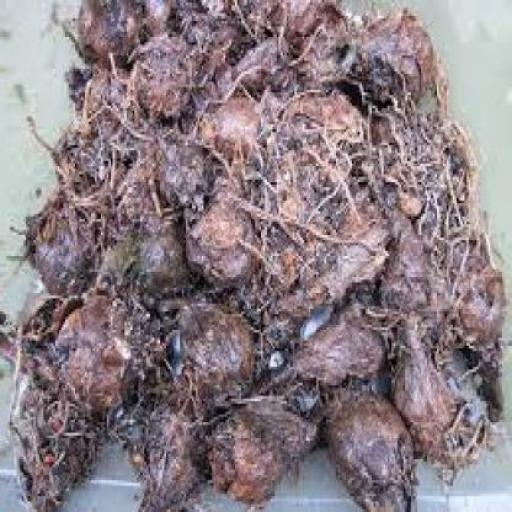biodegradable: (385, 132, 496, 306), (254, 198, 392, 336), (387, 311, 491, 483), (253, 74, 387, 203), (146, 285, 263, 412), (12, 346, 102, 509), (181, 0, 361, 80), (208, 388, 324, 504), (322, 374, 418, 510), (354, 6, 452, 132), (56, 293, 150, 417), (23, 155, 107, 291), (52, 61, 146, 174), (291, 293, 397, 385), (188, 151, 262, 280), (456, 248, 510, 412), (130, 398, 204, 510), (153, 105, 219, 206), (99, 161, 150, 288), (138, 34, 198, 122), (2, 283, 63, 367), (140, 201, 200, 285), (198, 79, 262, 156), (77, 0, 146, 66), (142, 0, 204, 43), (258, 330, 293, 388)
